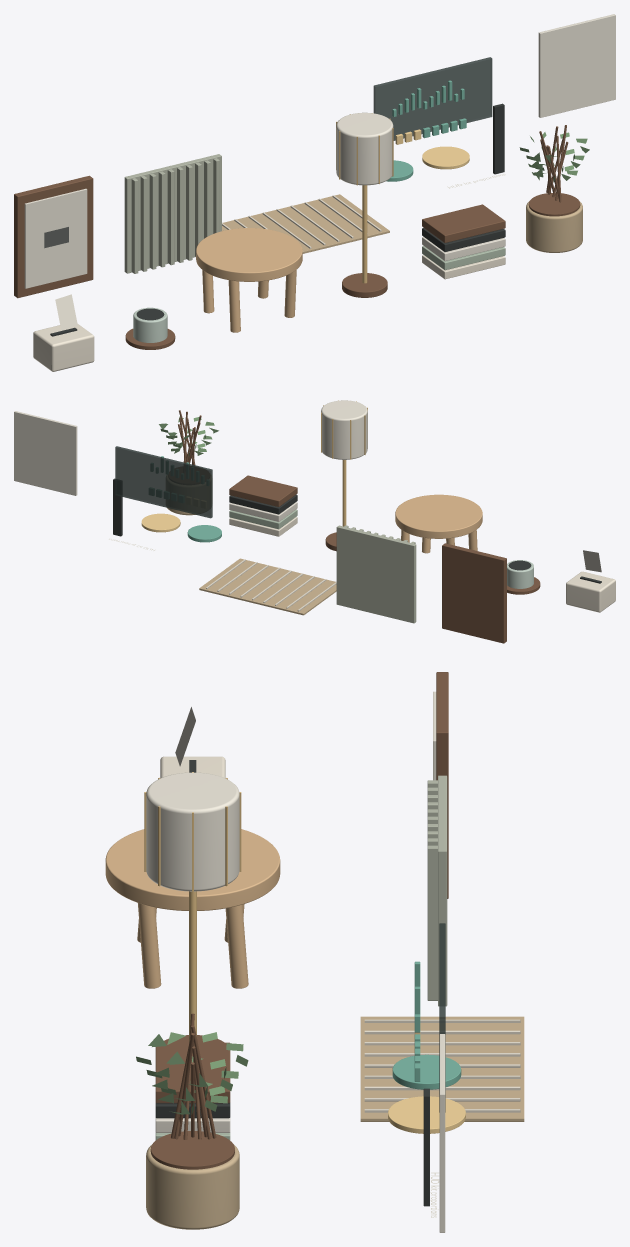
The model's file is CounselCueRoomAssetPack.fbx.
3 renders of one model, top to bottom at view 1: azimuth 30°, elevation 25°; view 2: azimuth 150°, elevation 25°; view 3: azimuth 270°, elevation 25°, orthographic. The views are drawn at different scales.
Parts seen in each view (by area): view 1: CC_HUDKit_PaperTranscript, CC_HUDKit_GlassPanel, CC_HanjiArtwork_Mat, CC_RoundOakTable_Top, CC_WovenRug_Base, CC_AcousticRibPanel_Back, CC_FloorLamp_HanjiShade, CC_HanjiArtwork_Frame, CC_TissueBox_Linen, CC_BasketPlant_WovenPot, CC_BookStack_Book_05, CC_BasketPlant_Soil (+23 smaller); view 2: CC_AcousticRibPanel_Back, CC_HanjiArtwork_Frame, CC_HUDKit_GlassPanel, CC_HUDKit_PaperTranscript, CC_WovenRug_Base, CC_RoundOakTable_Top, CC_FloorLamp_HanjiShade, CC_TissueBox_Linen, CC_BookStack_Book_05, CC_HUDKit_TutorialRing, CC_CeladonTeaCup_Bowl, CC_BookStack_Book_03 (+5 smaller); view 3: CC_WovenRug_Base, CC_FloorLamp_HanjiShade, CC_RoundOakTable_Top, CC_BasketPlant_WovenPot, CC_BookStack_Book_05, CC_BasketPlant_Soil, CC_HUDKit_TutorialRing, CC_AcousticRibPanel_Back, CC_HUDKit_MicButton, CC_AcousticRibPanel_Rib.009, CC_HanjiArtwork_Frame, CC_RoundOakTable_Leg.001 (+6 smaller).
Boxes of the visible parts, x1,y1,x2,y2 form: CC_HUDKit_PaperTranscript: (538, 14, 615, 117); CC_HUDKit_GlassPanel: (373, 57, 492, 140); CC_HanjiArtwork_Mat: (24, 188, 87, 288); CC_RoundOakTable_Top: (196, 228, 302, 281); CC_WovenRug_Base: (222, 194, 389, 253); CC_AcousticRibPanel_Back: (124, 154, 221, 273); CC_FloorLamp_HanjiShade: (336, 112, 393, 185); CC_HanjiArtwork_Frame: (14, 175, 93, 298); CC_TissueBox_Linen: (33, 324, 94, 371); CC_BasketPlant_WovenPot: (526, 201, 582, 252); CC_BookStack_Book_05: (422, 204, 505, 242); CC_BasketPlant_Soil: (528, 193, 580, 216); CC_AcousticRibPanel_Back: (336, 525, 416, 623); CC_HanjiArtwork_Frame: (442, 543, 506, 643); CC_HUDKit_GlassPanel: (115, 446, 212, 518); CC_HUDKit_PaperTranscript: (14, 411, 77, 495); CC_WovenRug_Base: (199, 558, 336, 615); CC_RoundOakTable_Top: (395, 494, 482, 538); CC_FloorLamp_HanjiShade: (321, 400, 367, 459); CC_TissueBox_Linen: (566, 571, 615, 612); CC_BookStack_Book_05: (229, 475, 297, 506); CC_HUDKit_TutorialRing: (141, 513, 180, 532); CC_CeladonTeaCup_Bowl: (507, 560, 533, 588); CC_BookStack_Book_03: (229, 502, 297, 521); CC_WovenRug_Base: (360, 1016, 524, 1121); CC_FloorLamp_HanjiShade: (146, 772, 239, 891); CC_RoundOakTable_Top: (105, 829, 280, 910); CC_BasketPlant_WovenPot: (146, 1145, 239, 1229); CC_BookStack_Book_05: (155, 1042, 230, 1103); CC_BasketPlant_Soil: (150, 1131, 234, 1169); CC_HUDKit_TutorialRing: (388, 1096, 465, 1133); CC_AcousticRibPanel_Back: (438, 775, 447, 1006); CC_HUDKit_MicButton: (392, 1054, 461, 1089); CC_AcousticRibPanel_Rib.009: (427, 845, 437, 1000); CC_HanjiArtwork_Frame: (436, 672, 448, 898); CC_RoundOakTable_Leg.001: (138, 903, 161, 988).
Bounding box in the file's own units: 787 × 191 × 268.
